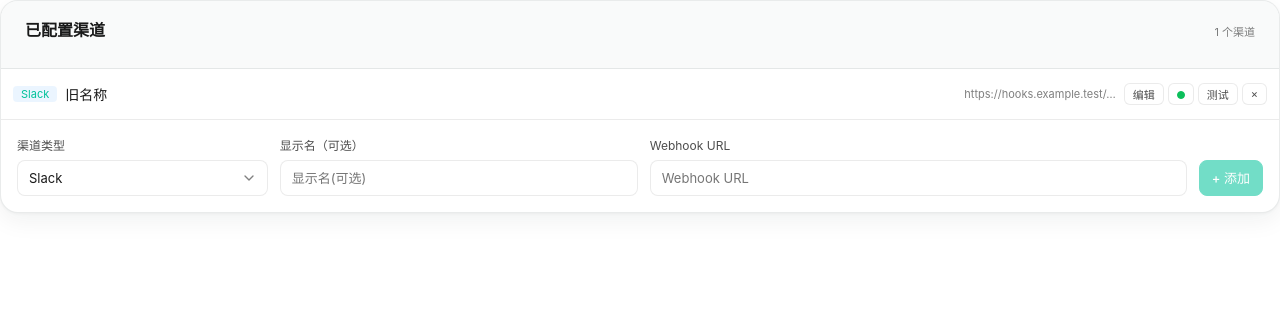
Test case: NotifyChannelsPanel › 编辑渠道名称时保留后端 Webhook 凭据，不把原始地址渲染在列表
The width and height of the screenshot is (1280, 324).
Check: the text "旧名称" is shown, box [65,86,107,103]
Click the button "编辑": {"x": 1144, "y": 94} [1124,83,1164,105]
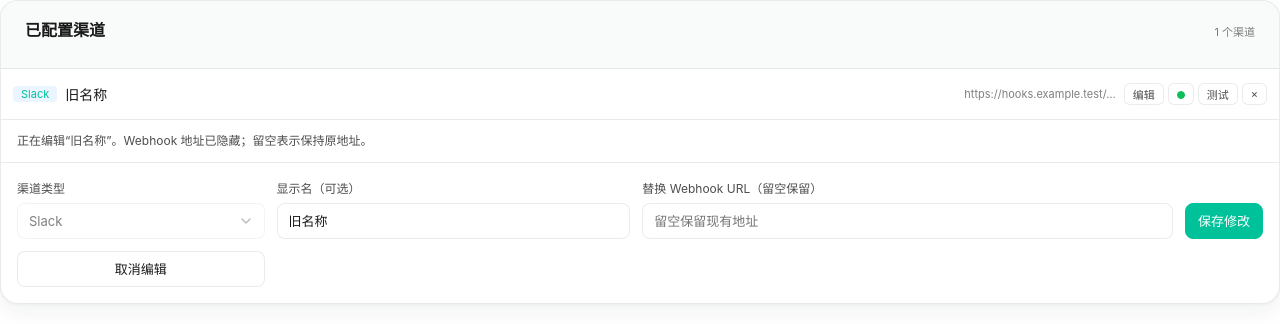
Check: the field labelled "Webhook URL" is empty, box [642,203,1173,239]
Replace the text in the field named "通知渠道显示名" with "新名称": {"x": 454, "y": 221} [277,203,630,239]
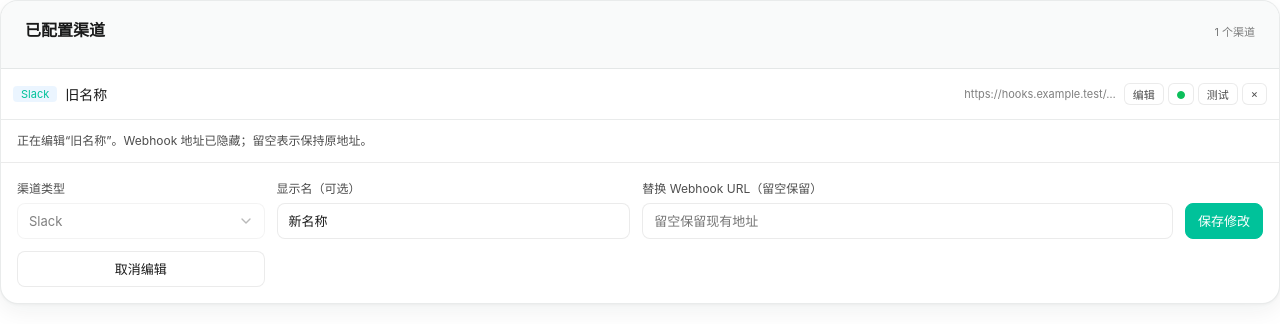
Click the button "保存修改": {"x": 1224, "y": 221} [1185,203,1263,239]
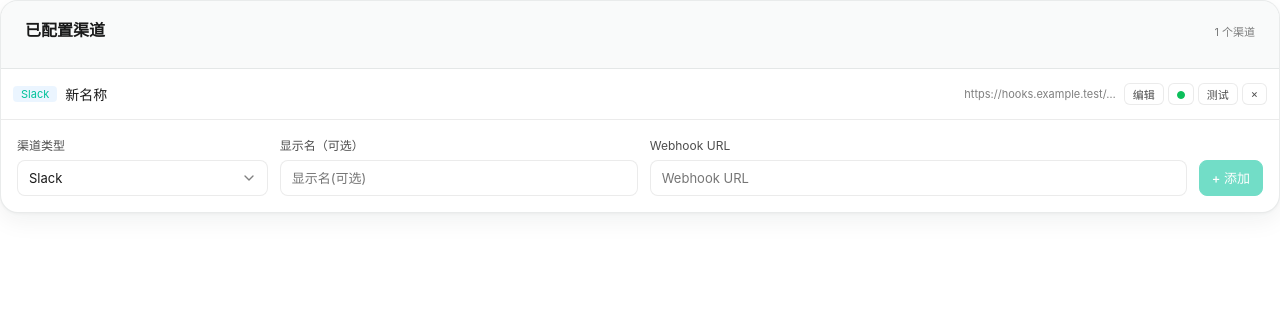
Check: the text "新名称" is shown, box [65,86,107,103]
